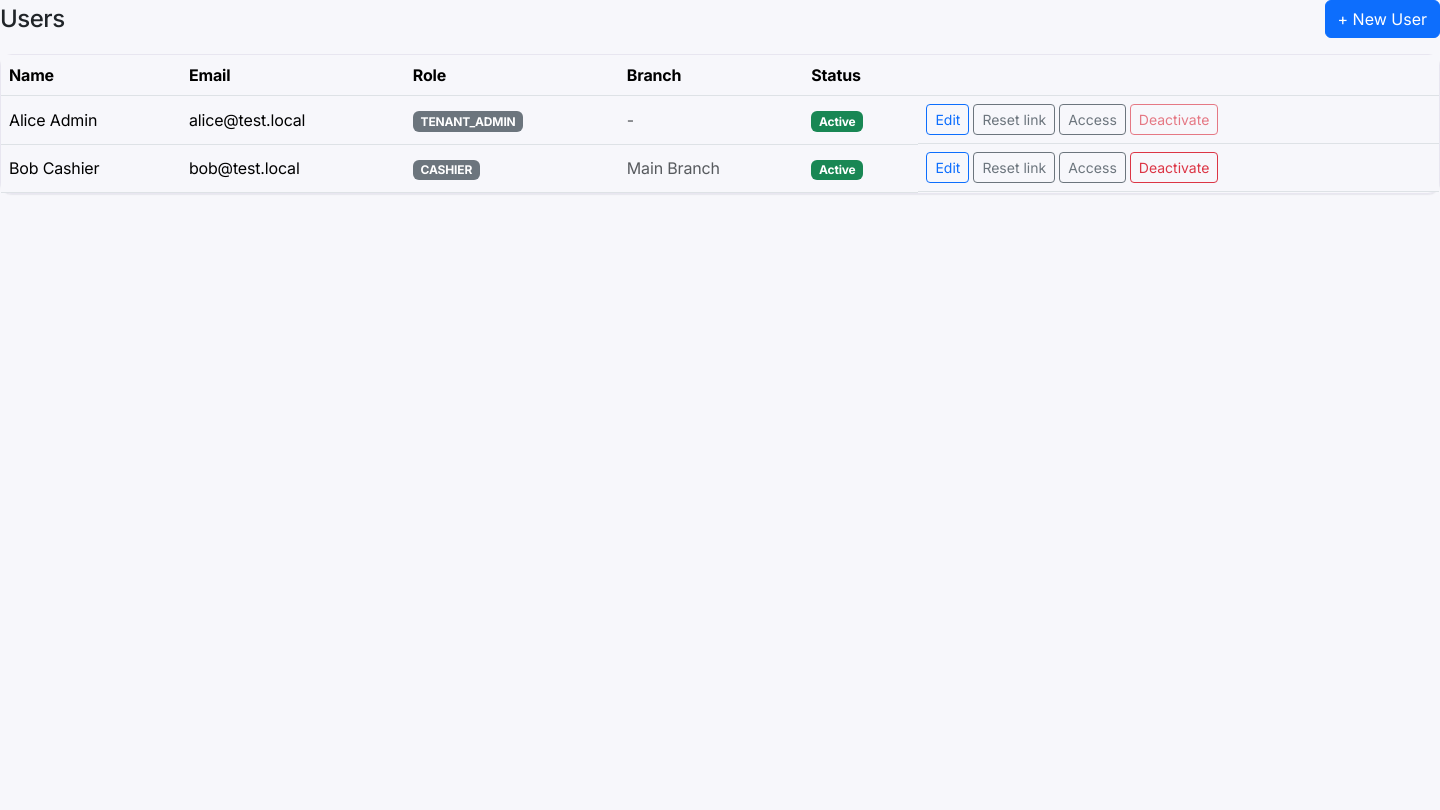
Test: Users page (Phase 1.2) › opens the edit modal pre-filled and disables the role field when editing your own account
Expected: the text "Alice Admin" is shown, [1,96,181,144]
Click the button "Edit" in the row of "Alice Admin" at (948, 120), box [926,104,969,135]
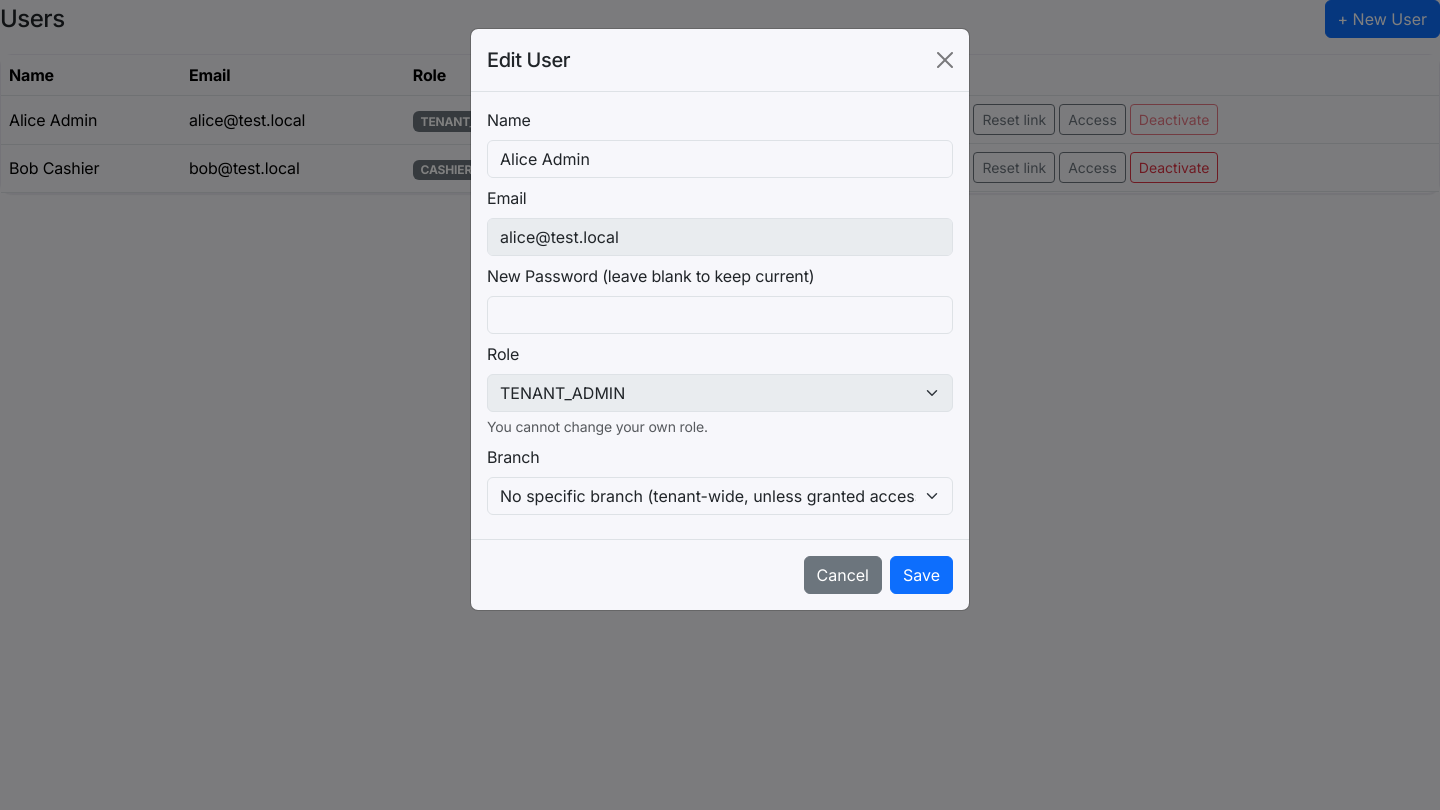
Now the 1st dropdown showing "TENANT_ADMIN" is disabled, box [487,374,953,412]
Now the text "You cannot change your own role." is shown, box [487,418,708,435]
